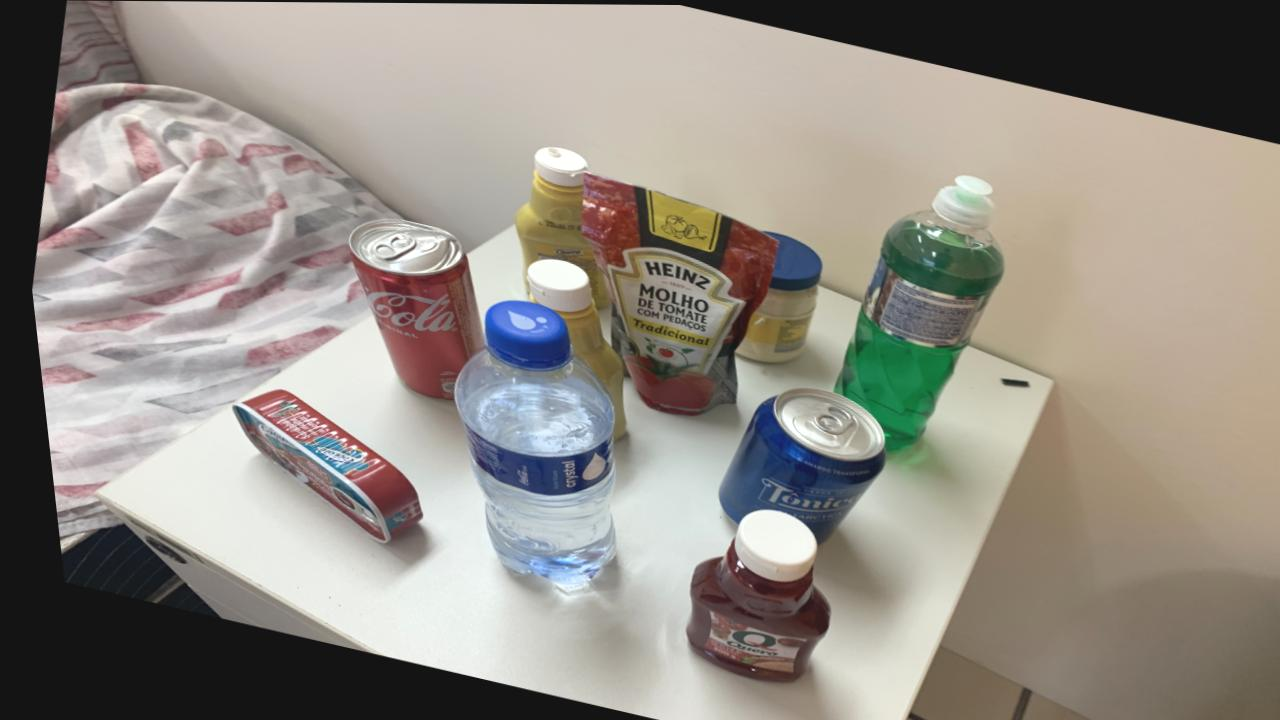Coke-Drinks: (342, 218, 475, 399)
Detergent-Cleanup_Items: (827, 174, 998, 448)
Ketchup-Pantry_Items: (671, 508, 816, 681)
Mayonnaise-Pantry_Items: (727, 230, 815, 362)
Mustard-Pantry_Items: (519, 257, 617, 437), (509, 145, 601, 307)
Tomato_Sauce-Pantry_Items: (576, 173, 771, 414)
Tonic-Drinks: (706, 386, 875, 542)
Tuna_Can-Pantry_Items: (223, 389, 409, 542)
Water_Bottle-Drinks: (444, 299, 605, 586)
